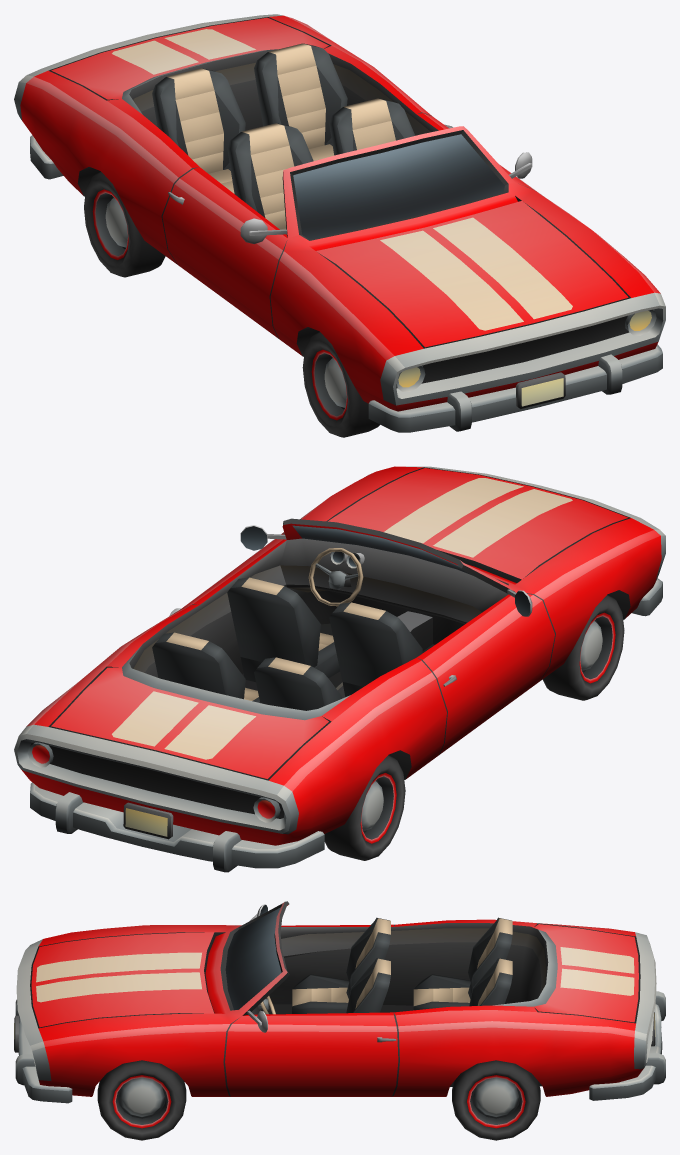
Rendered from VHC0110002.FBX.
The picture shows the model from 3 angles, top to bottom: view 1: azimuth 30°, elevation 25°; view 2: azimuth 150°, elevation 25°; view 3: azimuth 270°, elevation 25°; orthographic projection. The views are drawn at different scales.
Parts seen in each view (by area): view 1: smVHC0110002; view 2: smVHC0110002; view 3: smVHC0110002.
Boxes of the visible parts, x1,y1,x2,y2 form: smVHC0110002: (14,14,665,437); smVHC0110002: (14,466,665,872); smVHC0110002: (14,901,665,1140).
Size of the model in its own units: 1.63 by 1.05 by 3.9.
1 material, 1 textured.
